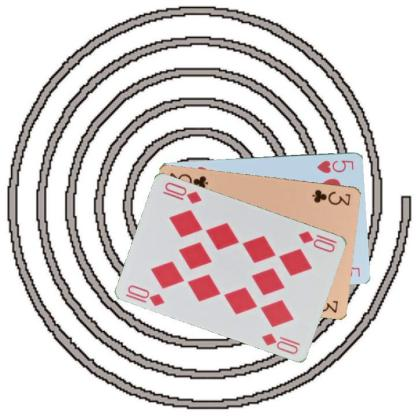10d: (296, 228, 338, 254), (125, 282, 166, 307)
3c: (310, 186, 352, 206)
5h: (314, 157, 356, 175)
